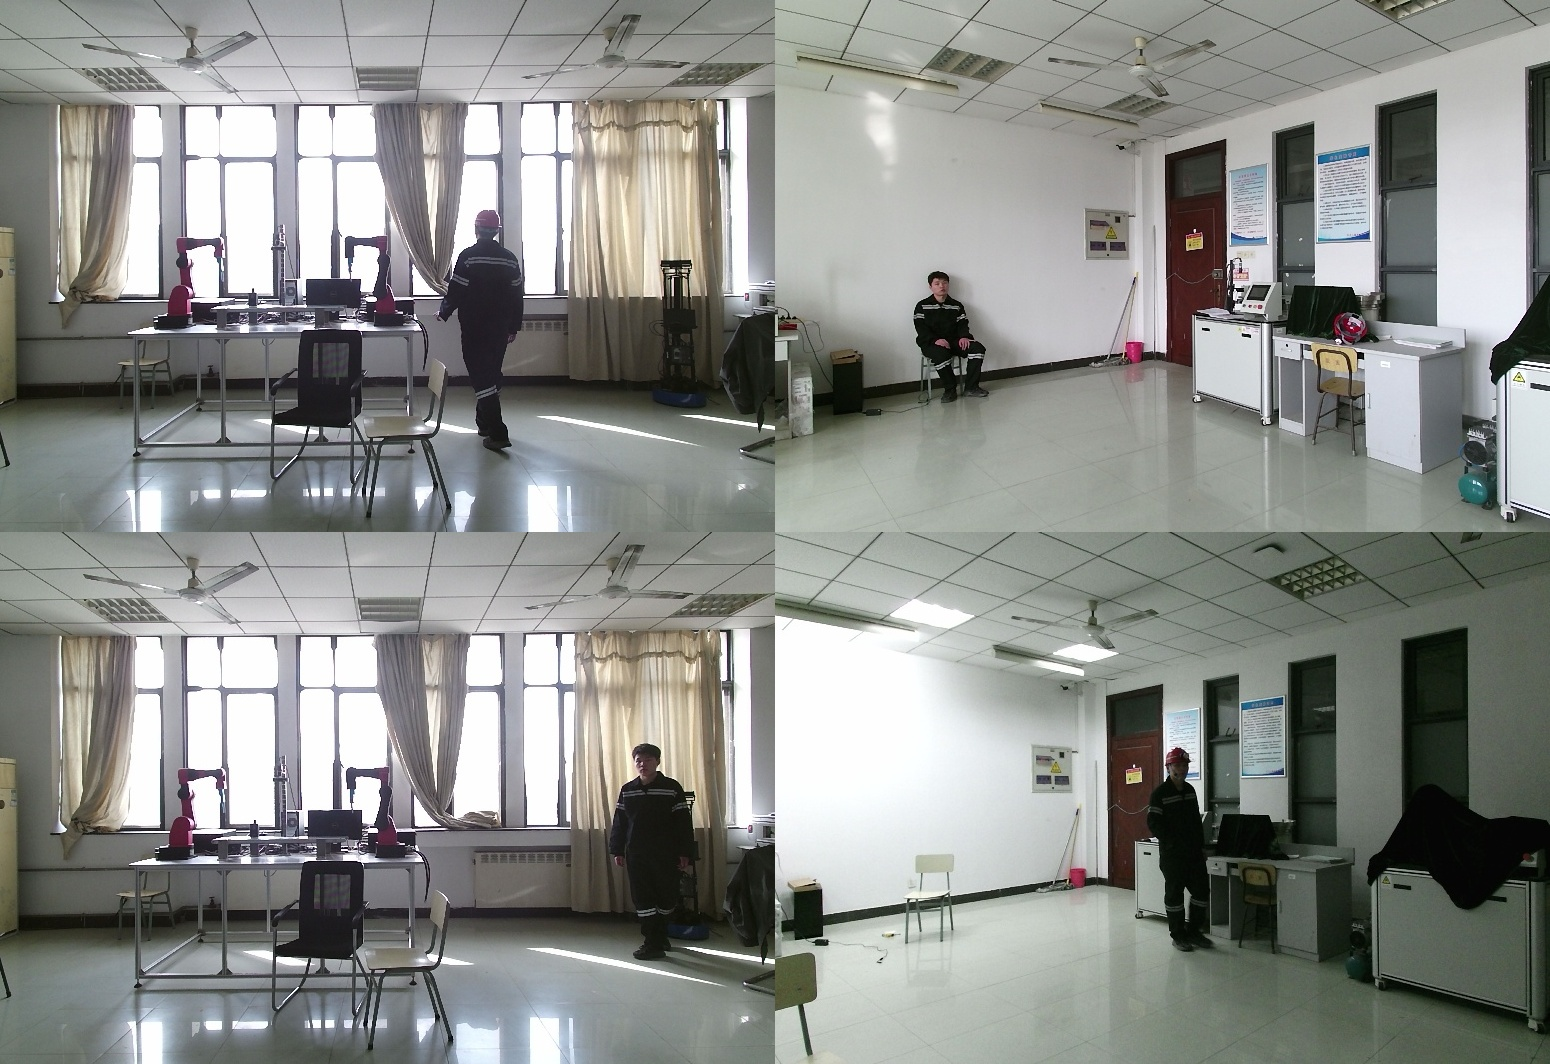person: (439, 207, 529, 455), (614, 745, 706, 962), (1143, 749, 1205, 956), (910, 270, 987, 405)
